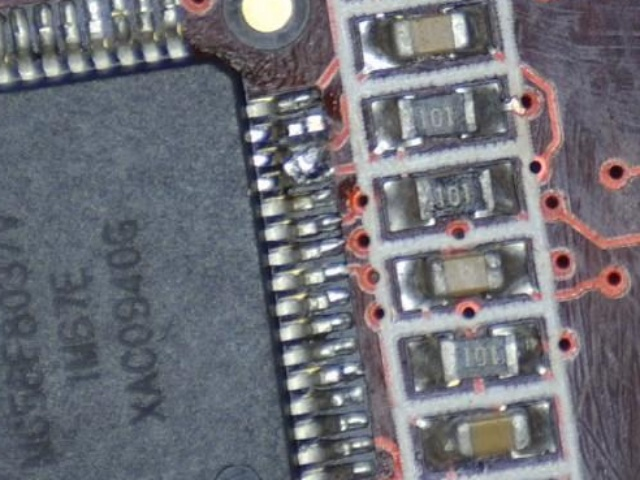pcb_defect: (253, 146, 332, 193)
